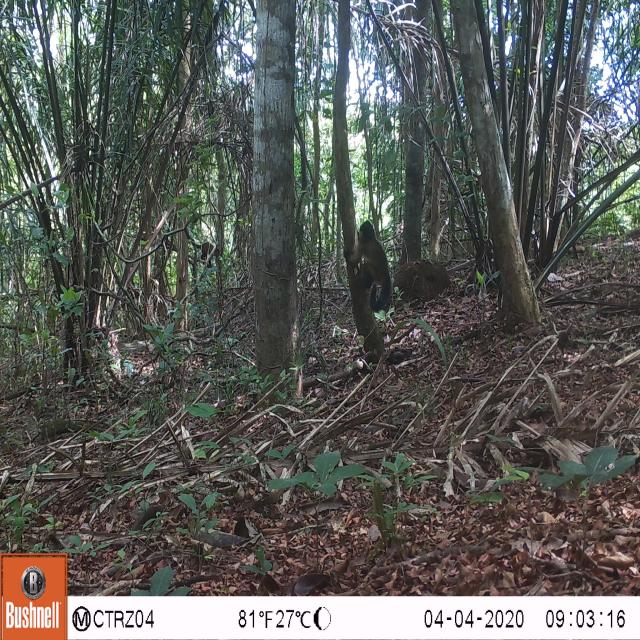Margarita Island Capuchin: (344, 217, 393, 356), (192, 233, 226, 272)
